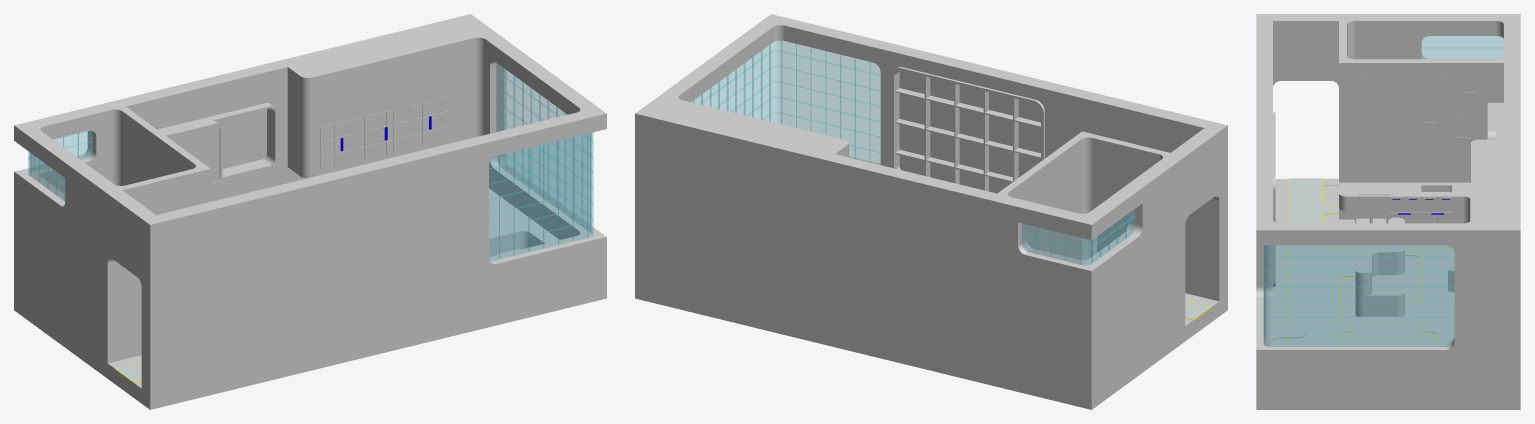
Rendered from memory typeA OptionC.glb.
3 views of the same model, side by side, from view 1: azimuth 30°, elevation 25°; view 2: azimuth 150°, elevation 25°; view 3: azimuth 270°, elevation 25° (orthographic). The views are drawn at different scales.
Parts seen in each view (by area): view 1: 绿植区墙, 厕所墙, 卧室墙, 卧室衣柜, Glass, 阅读区墙, 卧室柜门, 厨房墙, 白色石膏, 卧室床（软）, 米白色石膏; view 2: 厕所墙, 卧室墙, 绿植区墙, 阅读区墙, 厨房墙, Glass, 木板, 卧室衣柜; view 3: 卧室墙, Glass, 厕所墙, PATH, 绿植区墙, 木板, 厨房橱柜, 客厅沙发（软）, 卧室衣柜, 厨房柜门, 卧室床（软）, 客厅墙 (+8 smaller).
Boxes of the visible parts, left/top/right/bottom form: 绿植区墙: left=107, top=138, right=481, bottom=409; 厕所墙: left=14, top=100, right=210, bottom=384; 卧室墙: left=279, top=14, right=606, bottom=328; 卧室衣柜: left=287, top=24, right=485, bottom=178; Glass: left=28, top=63, right=593, bottom=260; 阅读区墙: left=206, top=61, right=306, bottom=200; 卧室柜门: left=320, top=96, right=451, bottom=171; 厨房墙: left=117, top=78, right=213, bottom=201; 白色石膏: left=157, top=103, right=277, bottom=186; 卧室床（软）: left=489, top=188, right=558, bottom=246; 米白色石膏: left=169, top=126, right=219, bottom=183; 厕所墙: left=988, top=131, right=1193, bottom=409; 卧室墙: left=635, top=14, right=895, bottom=345; 绿植区墙: left=888, top=44, right=1227, bottom=334; 阅读区墙: left=679, top=154, right=908, bottom=362; 厨房墙: left=900, top=172, right=996, bottom=384; Glass: left=692, top=40, right=1135, bottom=264; 木板: left=891, top=67, right=1115, bottom=228; 卧室衣柜: left=659, top=95, right=848, bottom=157; 卧室墙: left=1256, top=139, right=1520, bottom=409; Glass: left=1263, top=36, right=1503, bottom=346; 厕所墙: left=1323, top=14, right=1520, bottom=223; PATH: left=1289, top=178, right=1454, bottom=342; 绿植区墙: left=1256, top=14, right=1338, bottom=323; 木板: left=1273, top=78, right=1487, bottom=286; 厨房橱柜: left=1339, top=182, right=1470, bottom=223; 客厅沙发（软）: left=1355, top=217, right=1404, bottom=303; 卧室衣柜: left=1466, top=139, right=1503, bottom=223; 厨房柜门: left=1356, top=197, right=1453, bottom=223; 卧室床（软）: left=1355, top=317, right=1421, bottom=342; 客厅墙: left=1339, top=256, right=1420, bottom=324.
Size of the model in its own units: 9.31 by 3.6 by 4.8.
